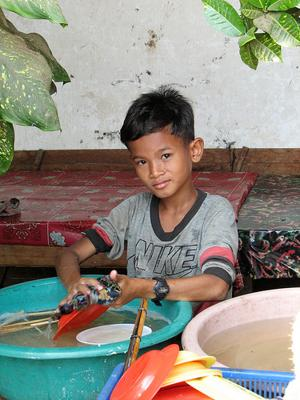person: (54, 86, 241, 314)
